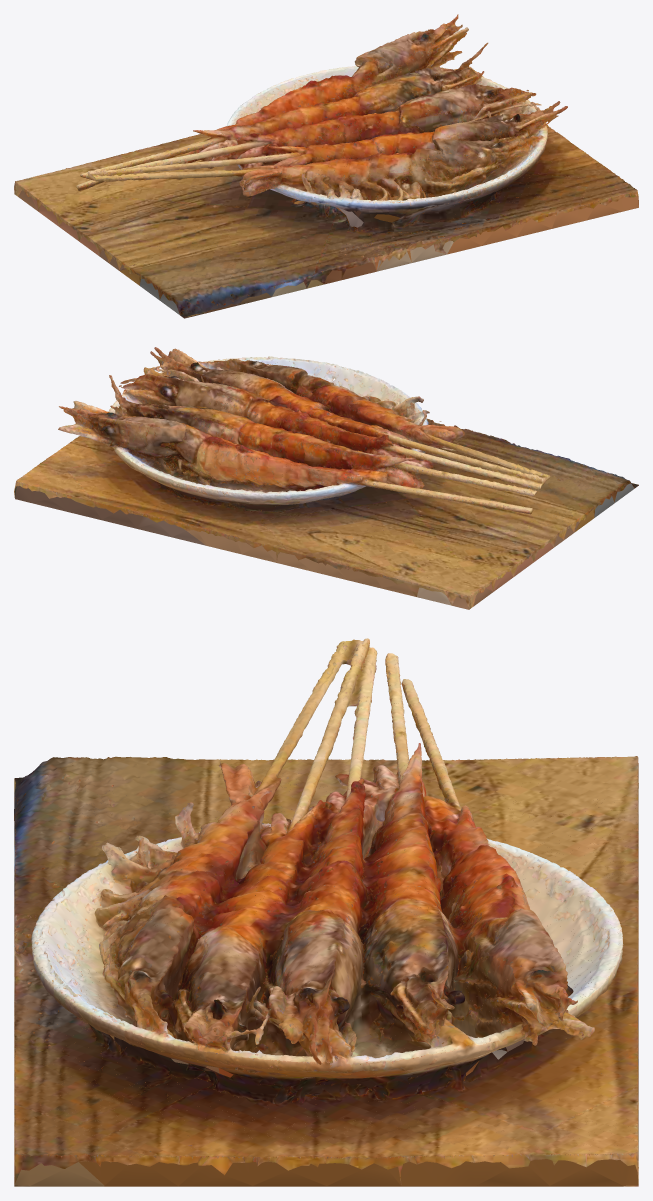
The picture shows the model from 3 angles, top to bottom: view 1: azimuth 30°, elevation 25°; view 2: azimuth 150°, elevation 25°; view 3: azimuth 270°, elevation 25°; orthographic projection. The views are drawn at different scales.
Parts seen in each view (by area): view 1: model; view 2: model; view 3: model.
Boxes of the visible parts, x1=… form: model: x1=14, y1=14, x2=638, y2=318; model: x1=14, y1=347, x2=638, y2=609; model: x1=14, y1=638, x2=638, y2=1186.
Size of the model in its own units: 0.3288 by 0.0632 by 0.2127.
1 material, 1 textured.
